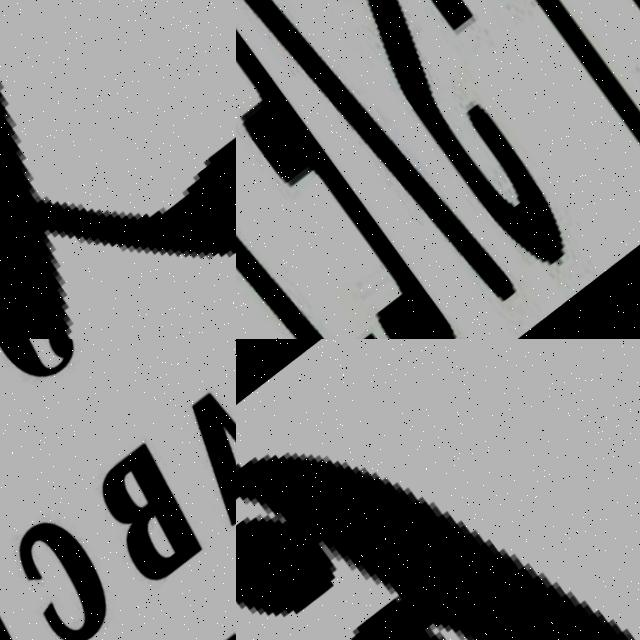6: (236, 339, 640, 640)
7: (236, 0, 548, 339), (236, 0, 404, 339)
9: (0, 339, 106, 419)
A: (432, 0, 640, 131)
E: (236, 0, 482, 339)
L: (366, 0, 640, 181)
P: (292, 0, 640, 214)
S: (236, 0, 584, 290)
X: (0, 0, 236, 339)
Z: (236, 0, 353, 339)
